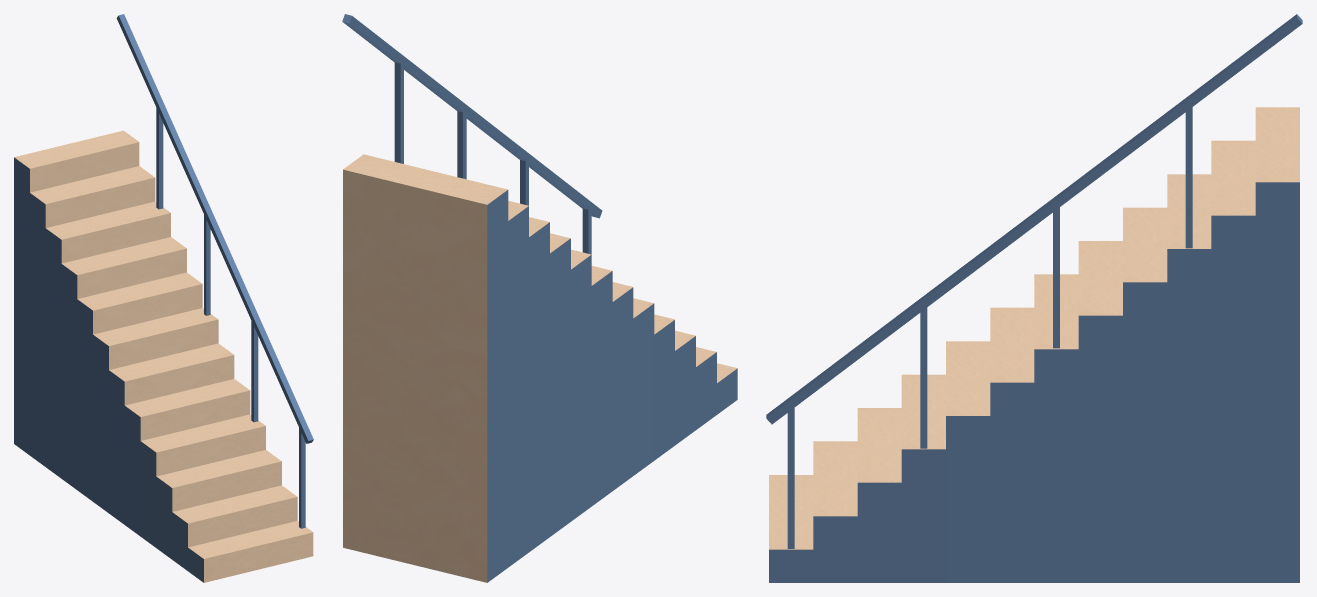
Rendered from Stairs_Interior.fbx.
3 renders of one model, left to right at view 1: azimuth 30°, elevation 25°; view 2: azimuth 150°, elevation 25°; view 3: azimuth 270°, elevation 25°, orthographic. The views are drawn at different scales.
Parts seen in each view (by area): view 1: Stairs_Interior; view 2: Stairs_Interior; view 3: Stairs_Interior.
Boxes of the visible parts, left/top/right/bottom form: Stairs_Interior: left=14, top=14, right=313, bottom=582; Stairs_Interior: left=342, top=14, right=737, bottom=582; Stairs_Interior: left=766, top=14, right=1302, bottom=582.
Size of the model in its own units: 1 by 3.52 by 3.03.
Materials: 1 (1 with a texture image).
